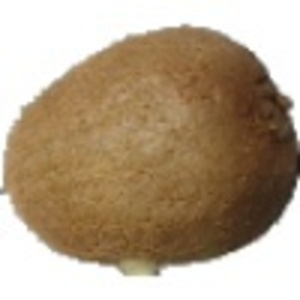kiwi: (1, 24, 300, 282)
